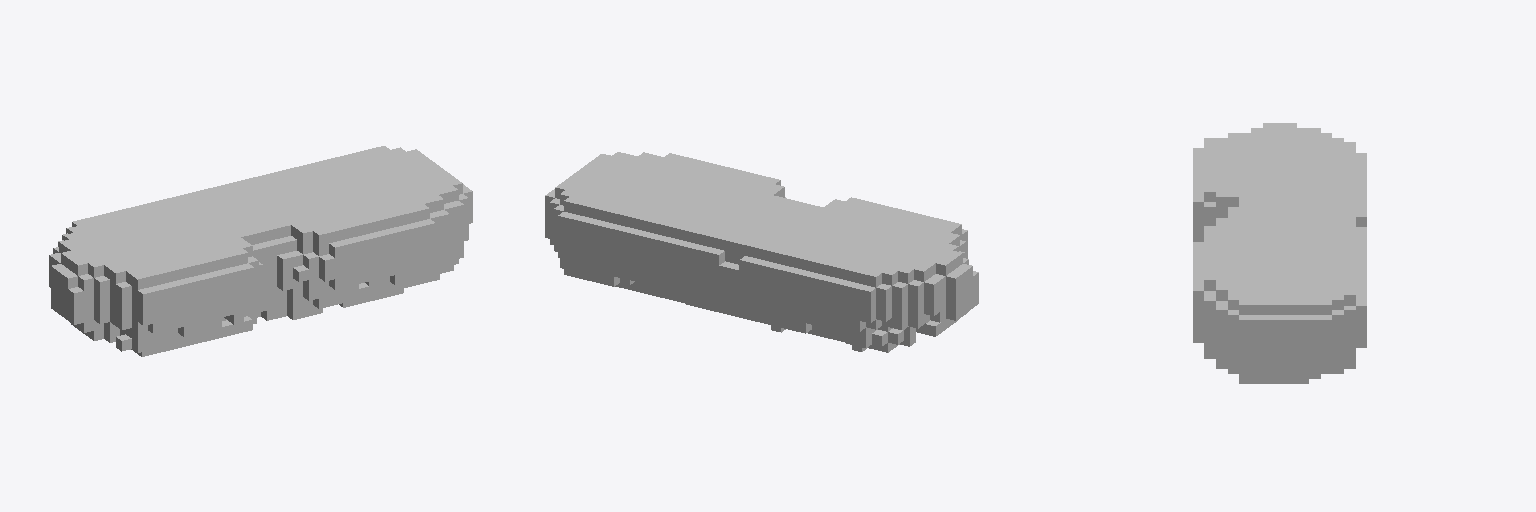
Rendered from ground20_2.obj.
3 renders of one model, left to right at view 1: azimuth 30°, elevation 25°; view 2: azimuth 150°, elevation 25°; view 3: azimuth 270°, elevation 25°, orthographic.
Visible parts, largest first — view 1: ObjObject.018; view 2: ObjObject.018; view 3: ObjObject.018.
Part boxes in pixels (x1,y1,x2,y2): ObjObject.018: (49, 146, 472, 356); ObjObject.018: (545, 152, 978, 352); ObjObject.018: (1193, 123, 1366, 383).
Bounding box in the file's own units: 3.9 × 0.8 × 1.5.